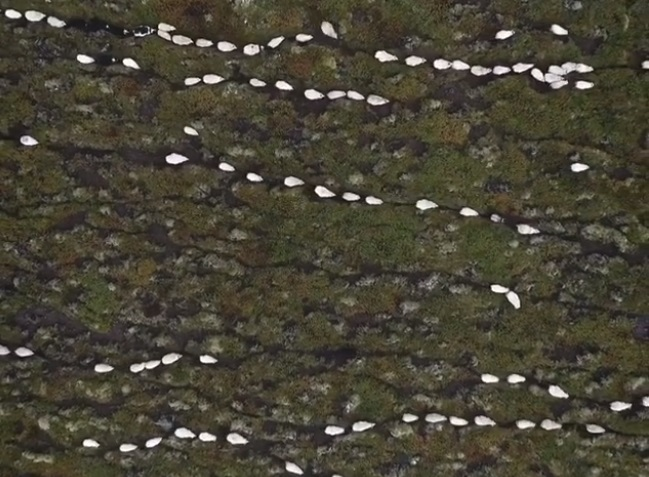sheep: (364, 92, 397, 114), (493, 25, 521, 50), (479, 373, 505, 393), (354, 417, 383, 434), (448, 57, 473, 76), (551, 20, 577, 38), (321, 19, 341, 42), (312, 184, 338, 201), (24, 6, 47, 25), (236, 41, 260, 59), (416, 198, 442, 214), (18, 132, 42, 149), (402, 54, 427, 70), (281, 459, 306, 475), (12, 345, 37, 361), (607, 396, 628, 415), (48, 12, 69, 31), (507, 290, 523, 314), (131, 24, 158, 38), (510, 60, 533, 76), (226, 432, 252, 446), (495, 62, 514, 81), (571, 158, 591, 176), (294, 32, 318, 47), (545, 72, 567, 88), (283, 175, 308, 189), (160, 352, 185, 366), (374, 50, 397, 65), (244, 171, 267, 186), (341, 191, 364, 206), (121, 56, 141, 73), (201, 73, 227, 86), (165, 153, 191, 166), (575, 77, 596, 93), (447, 416, 468, 432), (195, 352, 219, 366), (143, 433, 165, 448), (460, 63, 487, 75), (215, 157, 233, 175), (177, 425, 195, 443), (473, 415, 496, 429), (455, 209, 484, 220), (517, 418, 538, 433), (3, 6, 24, 21), (324, 423, 348, 436), (548, 382, 566, 399), (79, 49, 98, 65), (515, 224, 535, 239), (195, 35, 215, 50), (301, 87, 326, 99), (577, 61, 598, 75), (217, 39, 238, 53), (528, 66, 546, 82), (265, 34, 283, 50), (537, 420, 559, 433), (367, 196, 386, 211), (507, 371, 526, 386), (562, 62, 582, 76), (195, 428, 215, 442), (79, 437, 102, 449), (489, 281, 510, 294), (586, 424, 607, 437), (182, 125, 203, 138), (145, 357, 162, 373), (344, 87, 362, 102), (326, 88, 345, 102), (93, 362, 115, 374), (429, 57, 447, 71), (172, 33, 193, 45), (128, 360, 146, 374), (427, 412, 446, 425), (158, 22, 177, 35), (248, 76, 267, 89), (121, 441, 138, 454), (184, 74, 199, 88), (274, 81, 293, 92), (403, 414, 419, 424)
